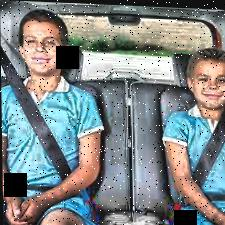seatbelt: (2, 45, 82, 197), (169, 100, 225, 214)
